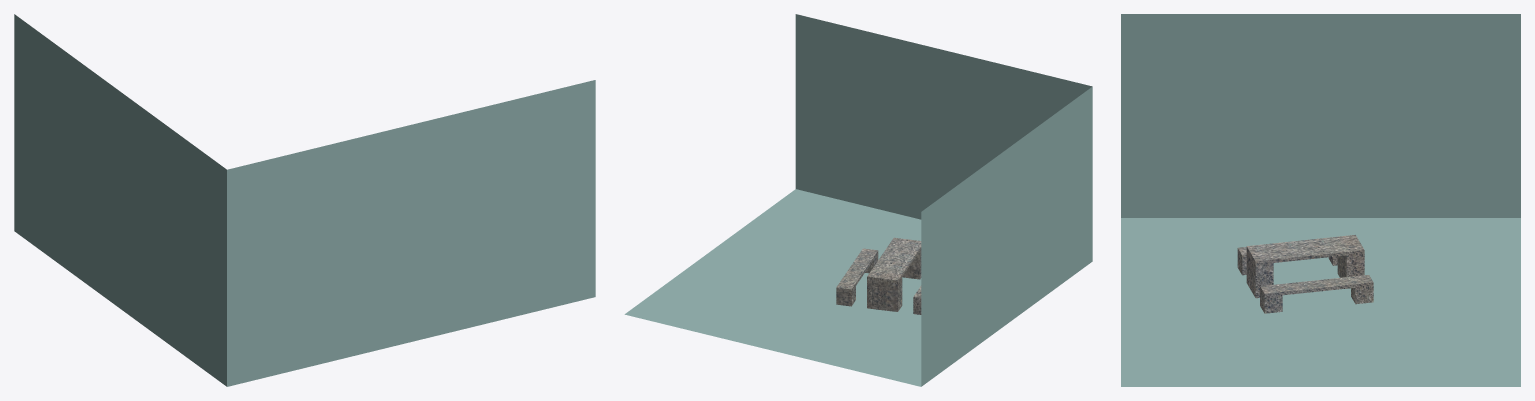
File: Scene_StoneTableBench.fbx
3 views of the same model, side by side, from view 1: azimuth 30°, elevation 25°; view 2: azimuth 150°, elevation 25°; view 3: azimuth 270°, elevation 25° (orthographic). The views are drawn at different scales.
Parts seen in each view (by area): view 1: Plane; view 2: Plane, Table, Chairs; view 3: Plane, Table, Chairs.
Part boxes in pixels (x1,y1,x2,y2): Plane: (14, 14, 595, 386); Plane: (624, 14, 1092, 386); Table: (867, 237, 921, 311); Chairs: (836, 248, 921, 314); Plane: (1121, 14, 1520, 386); Table: (1246, 235, 1364, 298); Chairs: (1237, 247, 1373, 313).
Bounding box in the file's own units: 3181 × 1796 × 3181.
